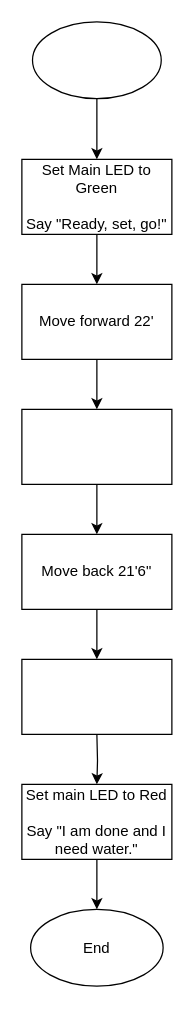
The diagram is 194 pixels wide and 1009 high, and some of its shapes have lost their labels. Each missing label, with the centre of its shape:
Move left 11': point (96, 696)
Move left 11'8": point (96, 446)
Start: point (96, 60)
